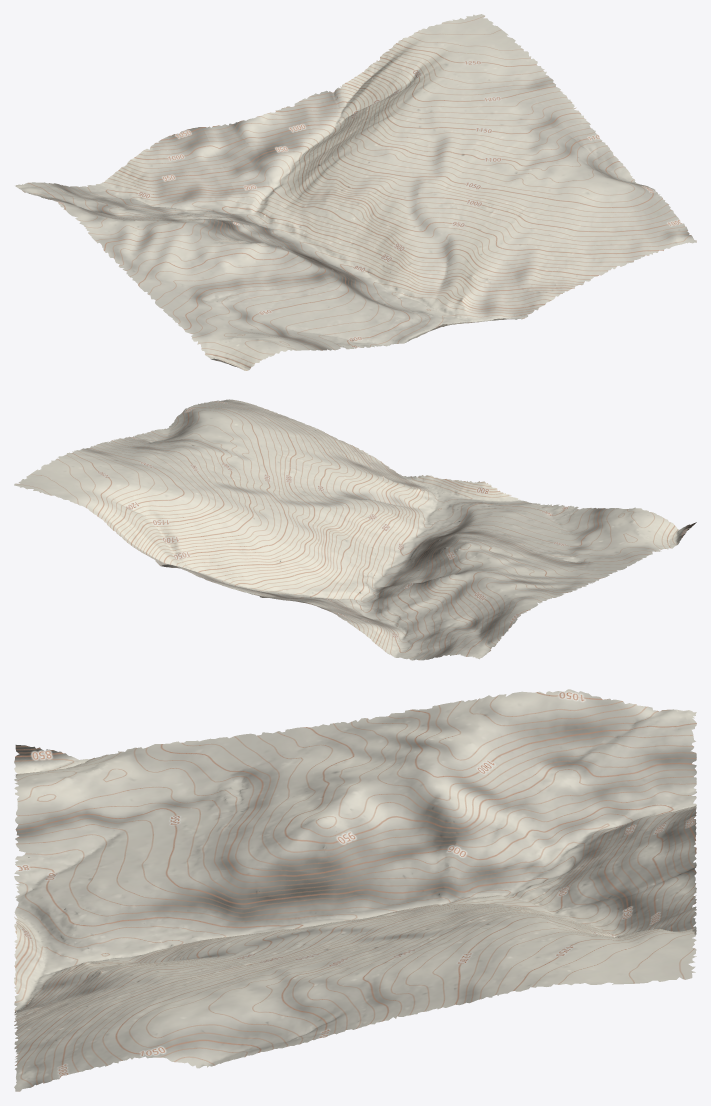
File: cloud_compare_contours_terrain_gltf_report_v1.glb
3 renders of one model, top to bottom at view 1: azimuth 30°, elevation 25°; view 2: azimuth 150°, elevation 25°; view 3: azimuth 270°, elevation 25°, orthographic. The views are drawn at different scales.
Parts seen in each view (by area): view 1: lp; view 2: lp; view 3: lp.
Part boxes in pixels (bbox=[...]): lp: bbox=[15, 14, 696, 370]; lp: bbox=[14, 399, 696, 660]; lp: bbox=[14, 689, 696, 1091].
Bounding box in the file's own units: 31.56 × 6.82 × 25.24.
Materials: 1 (1 with a texture image).
